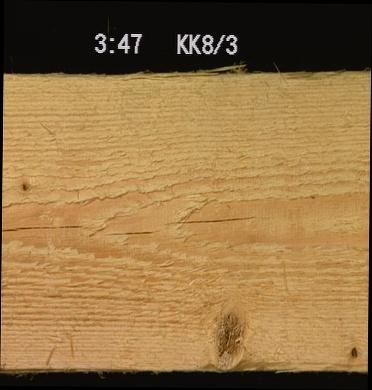dry_knot: (346, 343, 360, 358)
small_knot: (18, 179, 30, 193)
sound_knot: (206, 307, 246, 365)
split: (49, 64, 257, 78), (161, 215, 254, 225), (1, 223, 84, 233), (104, 224, 161, 236)
wave: (191, 361, 366, 374)
